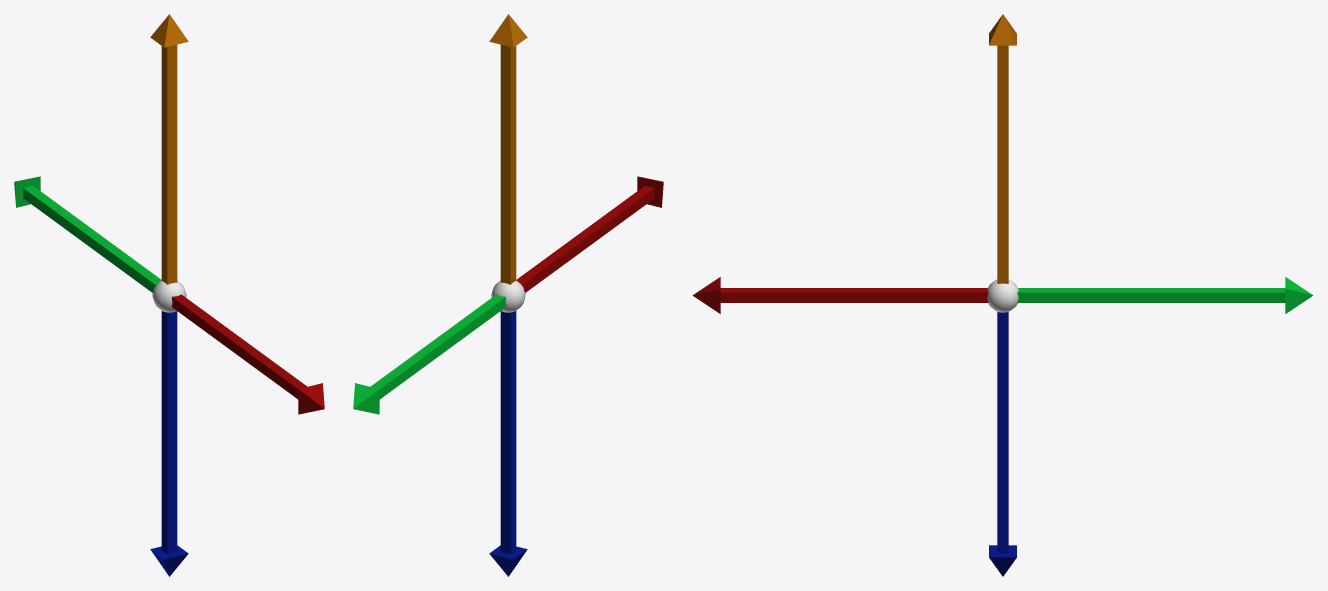
Rendered from MayBay_ToaDo.fbx.
3 views of the same model, side by side, from view 1: azimuth 30°, elevation 25°; view 2: azimuth 150°, elevation 25°; view 3: azimuth 270°, elevation 25° (orthographic).
Visible parts, largest first — view 1: Box014, Box015, Box017, Box016, Sphere001; view 2: Box014, Box015, Box016, Box017, Sphere001; view 3: Box016, Box017, Box014, Box015, Sphere001.
Part boxes in pixels (bbox=[...]): Box014: bbox=[150, 14, 188, 284]; Box015: bbox=[150, 311, 188, 576]; Box017: bbox=[172, 294, 324, 414]; Box016: bbox=[14, 176, 161, 292]; Sphere001: bbox=[152, 280, 186, 312]; Box014: bbox=[489, 14, 527, 284]; Box015: bbox=[489, 311, 527, 576]; Box016: bbox=[353, 294, 505, 414]; Box017: bbox=[516, 176, 663, 292]; Sphere001: bbox=[491, 280, 525, 312]; Box016: bbox=[1017, 277, 1313, 313]; Box017: bbox=[692, 277, 988, 313]; Box014: bbox=[989, 14, 1016, 283]; Box015: bbox=[989, 312, 1016, 576]; Sphere001: bbox=[987, 279, 1018, 312].
Size of the model in its own units: 12.28 by 220 by 220.
